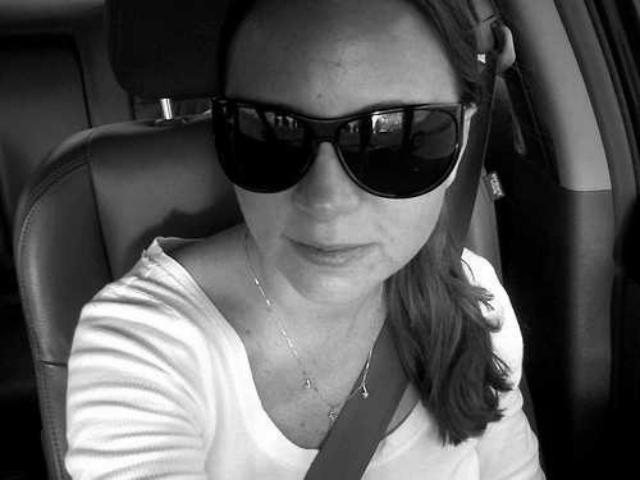Seatbelt: (298, 0, 512, 480)
